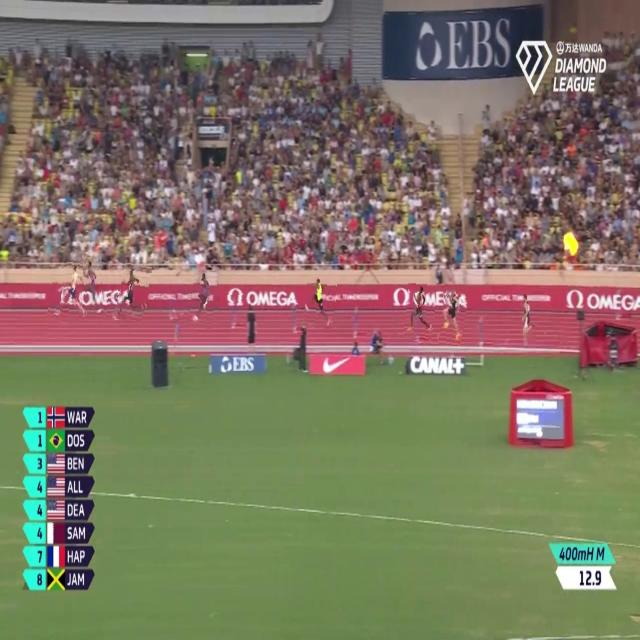athlete: (118, 263, 150, 320), (189, 269, 217, 329), (405, 282, 435, 338), (305, 276, 337, 328), (440, 286, 467, 345), (516, 289, 538, 349), (83, 252, 103, 315), (62, 262, 82, 324)
hurdle: (348, 301, 365, 349), (412, 304, 433, 342), (47, 280, 66, 320), (227, 295, 246, 335), (286, 298, 305, 336), (473, 312, 491, 352), (107, 287, 127, 319)
